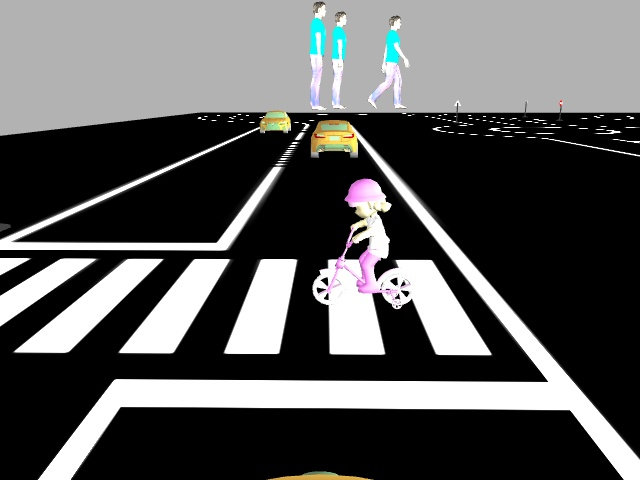Pedestrian: (309, 177, 421, 311)
